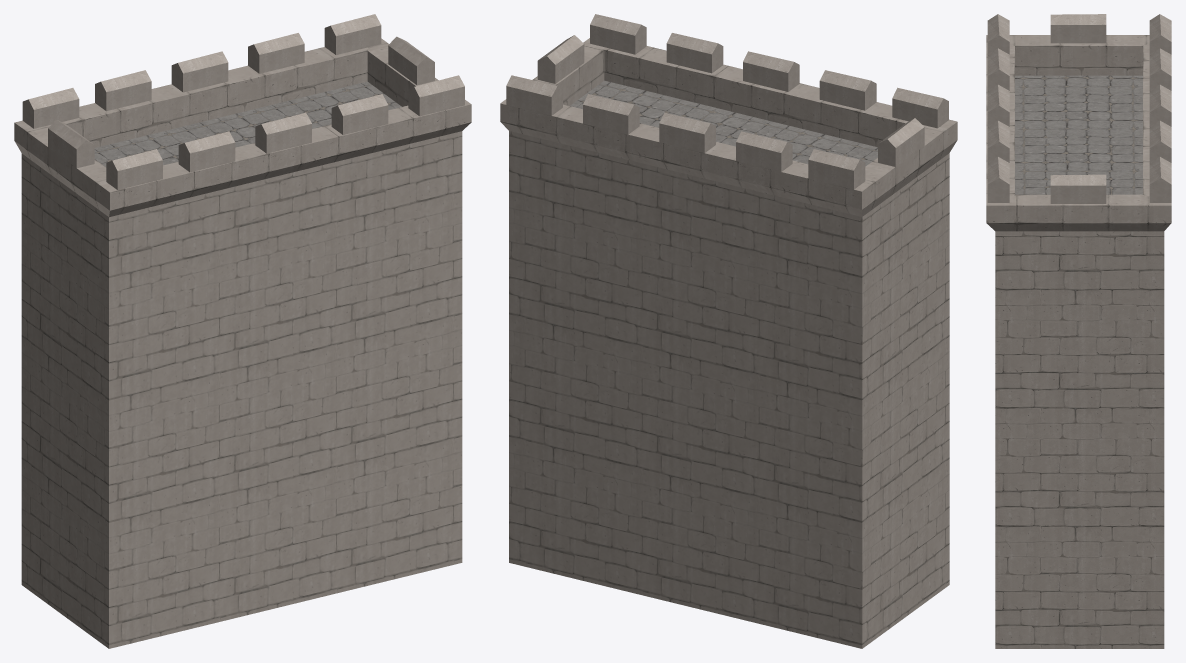
The model's file is CastleWall_D.fbx.
3 views of the same model, side by side, from view 1: azimuth 30°, elevation 25°; view 2: azimuth 150°, elevation 25°; view 3: azimuth 270°, elevation 25° (orthographic). The views are drawn at different scales.
Parts seen in each view (by area): view 1: CastleWall_D; view 2: CastleWall_D; view 3: CastleWall_D.
Boxes of the visible parts, x1,y1,x2,y2 form: CastleWall_D: (14,14,471,648); CastleWall_D: (500,14,957,648); CastleWall_D: (986,14,1171,648).
Bounding box in the file's own units: 4036 × 5186 × 1849.
2 materials, 2 textured.
